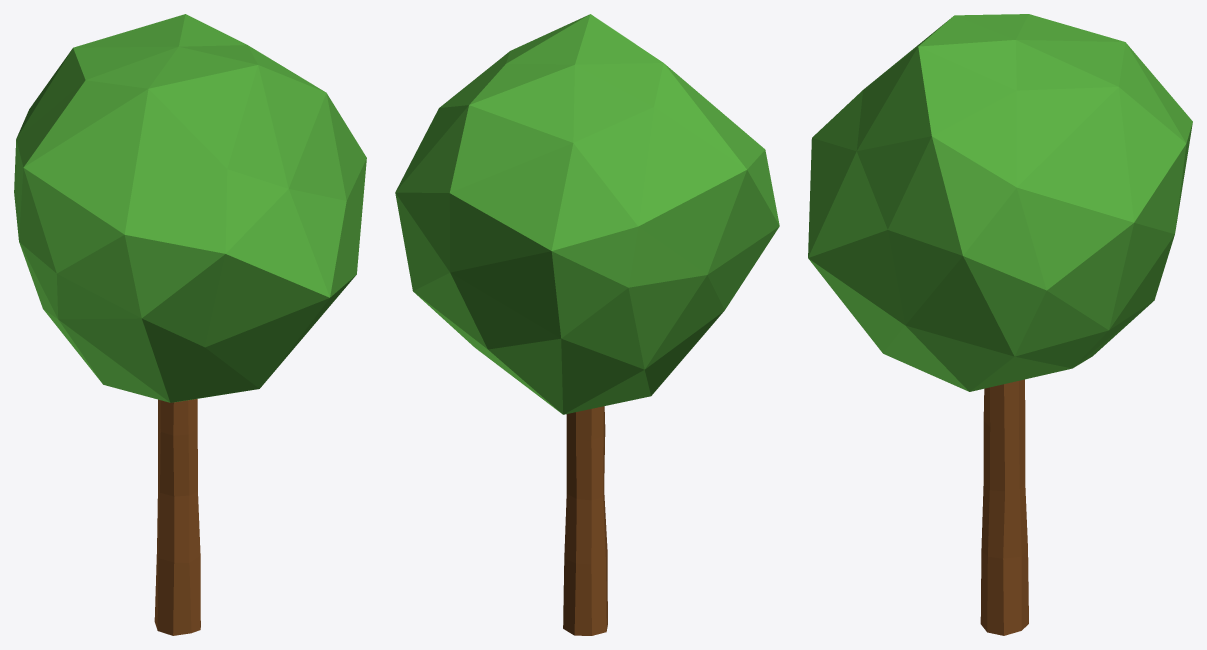
File: tree3.fbx
3 views of the same model, side by side, from view 1: azimuth 30°, elevation 25°; view 2: azimuth 150°, elevation 25°; view 3: azimuth 270°, elevation 25° (orthographic). The views are drawn at different scales.
Visible parts, largest first — view 1: tree.003; view 2: tree.003; view 3: tree.003.
Boxes of the visible parts, left/top/right/bottom form: tree.003: left=14, top=14, right=366, bottom=635; tree.003: left=395, top=14, right=779, bottom=635; tree.003: left=808, top=14, right=1192, bottom=635.
Bounding box in the file's own units: 1903 × 1894 × 3243.
